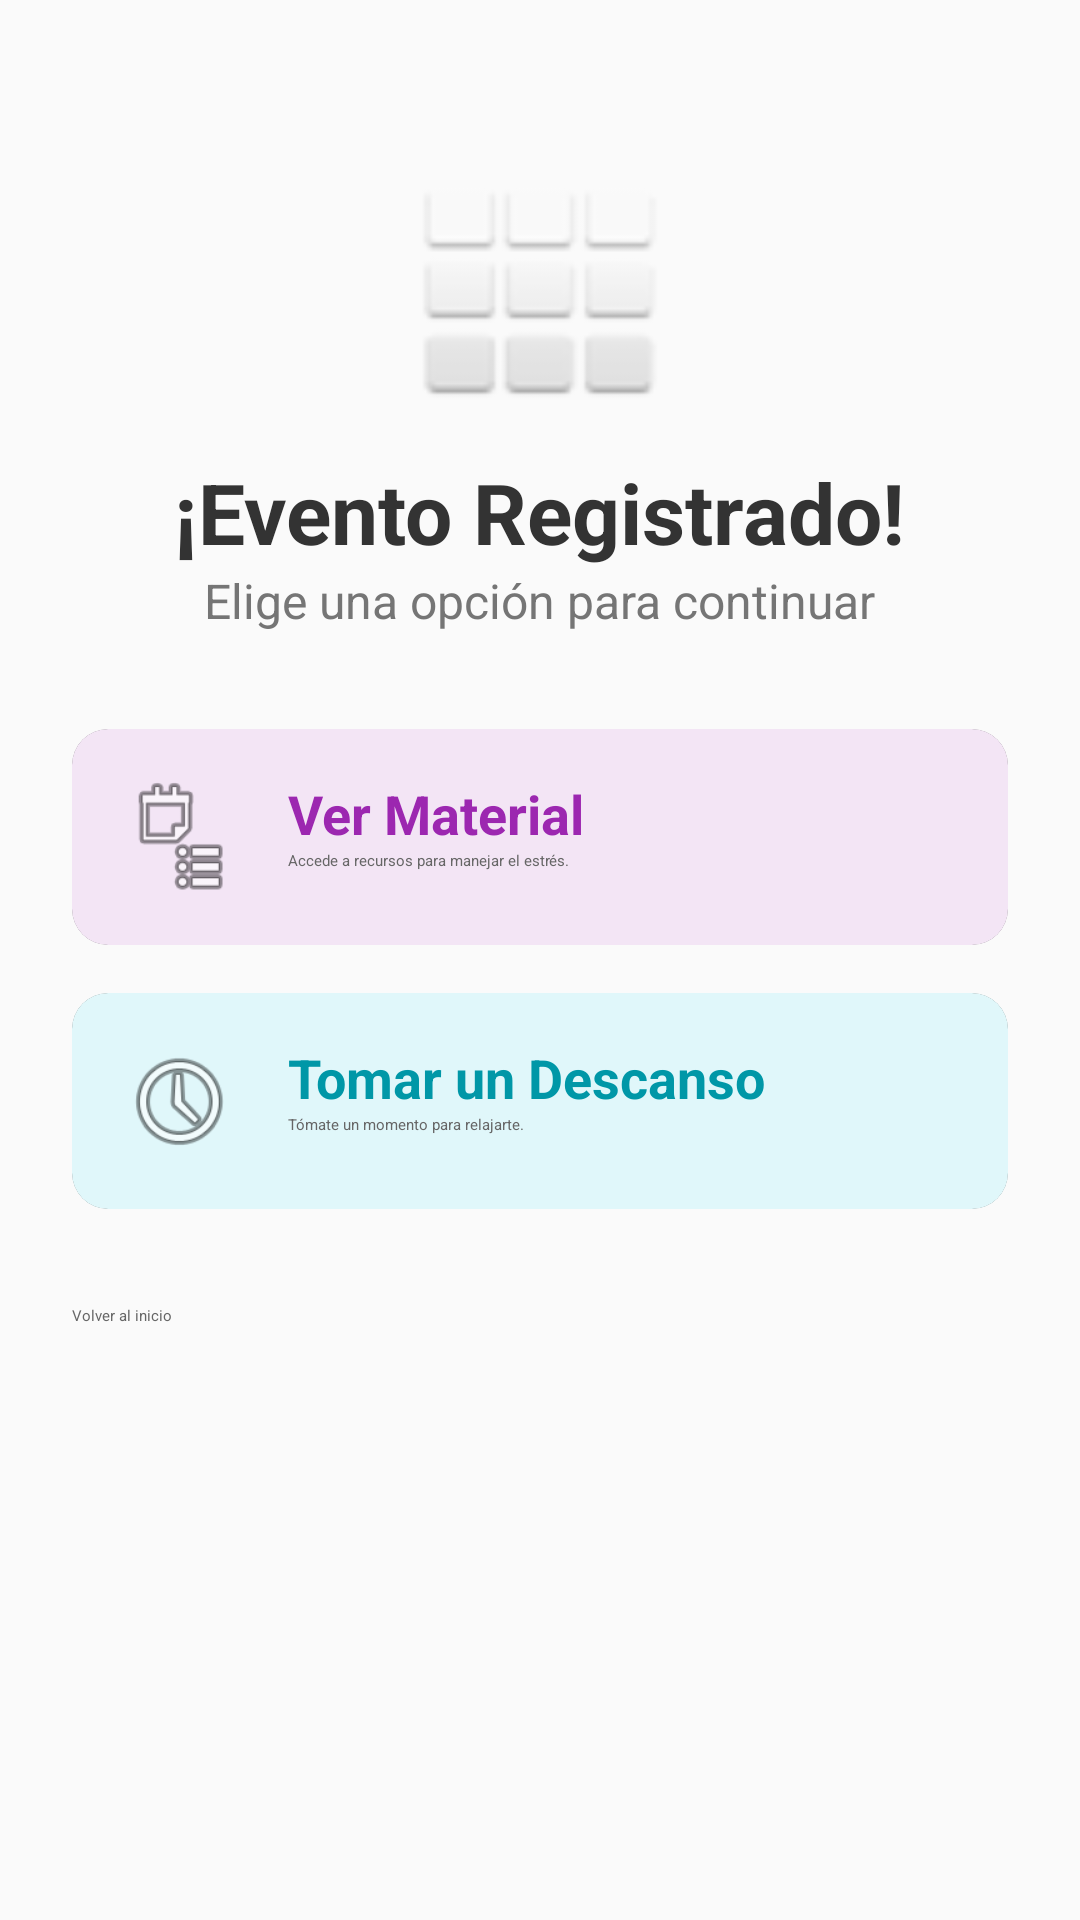

Icons on this 1080px×1920px Android screen, each with the point to tap as (x,y):
agenda: (180,836)
recent history: (179,1101)
